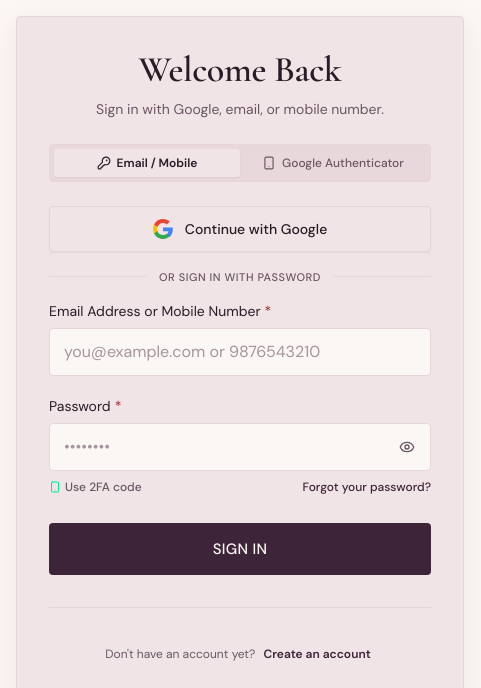
Test case: FE-25: Sign up and login pages › Login Page › validates required fields before sending and moves focus to first invalid field
Click the button with test id "login-submit-btn" at (240, 550), box [49, 524, 431, 576]
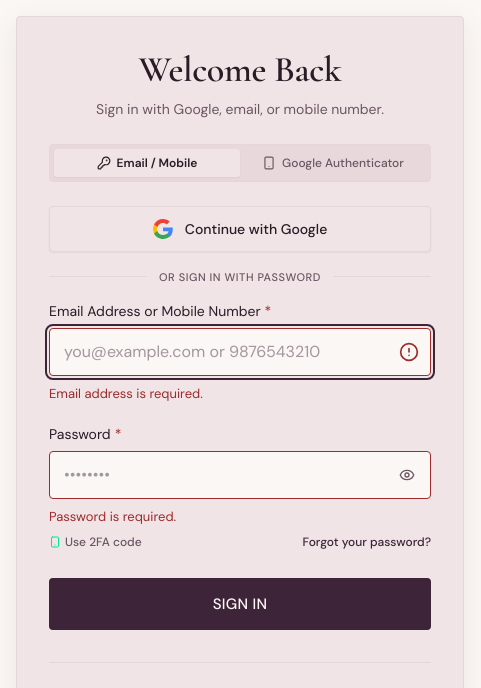
Expected: the text "Email address is required." is shown, [49, 384, 203, 404]
